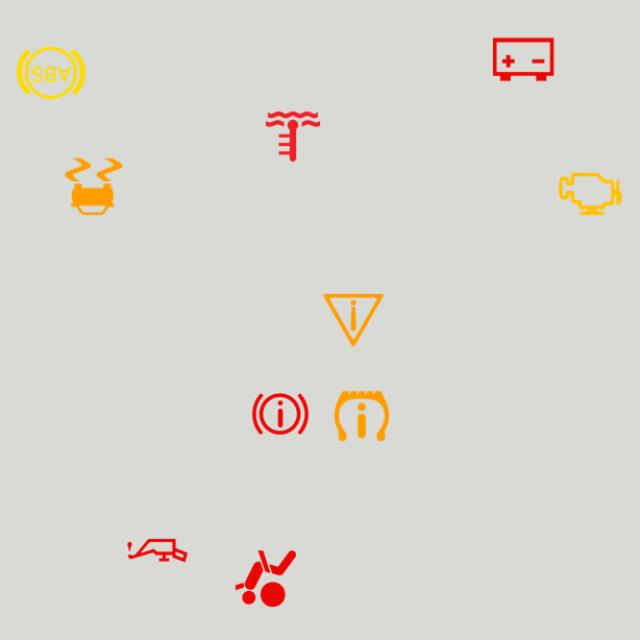Anti Lock Braking System: (13, 36, 88, 110)
Braking System Issue: (243, 376, 318, 452)
Charging System Issue: (486, 22, 561, 97)
Check Engine: (552, 156, 628, 232)
Electronic Stability Problem -ESP-: (56, 149, 132, 224)
Engine Overheating Warning Light: (256, 99, 330, 174)
Low Engine Oil Warning Light: (120, 513, 195, 588)
Low Tire Pressure Warning Light: (324, 378, 399, 454)
Master warning light: (316, 282, 391, 358)
SRS-Airbag: (228, 541, 304, 616)
